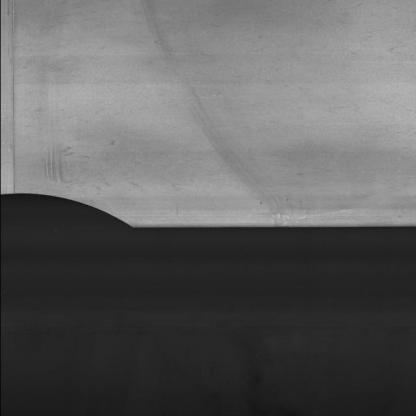crescent_gap: (0, 186, 145, 240)
welding_line: (2, 2, 31, 203)
